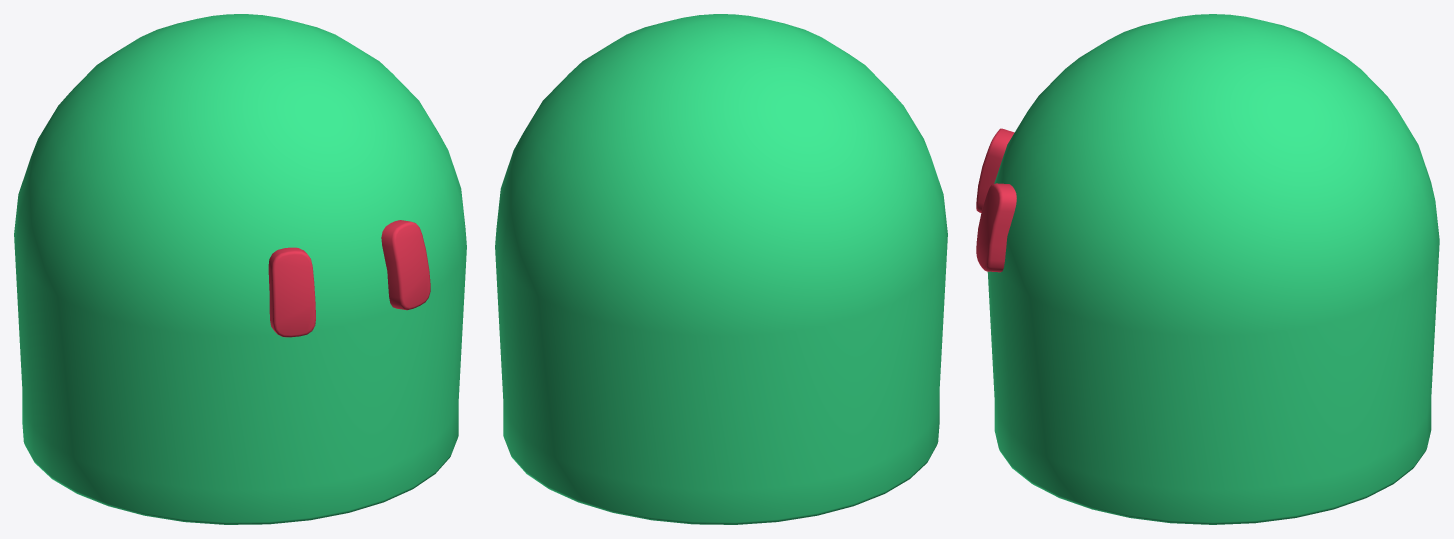
The model's file is BB_Boy.FBX.
3 renders of one model, left to right at view 1: azimuth 30°, elevation 25°; view 2: azimuth 150°, elevation 25°; view 3: azimuth 270°, elevation 25°, orthographic.
Visible parts, largest first — view 1: Sphere001; view 2: Sphere001; view 3: Sphere001.
Boxes of the visible parts, left/top/right/bottom form: Sphere001: left=14, top=14, right=466, bottom=524; Sphere001: left=495, top=14, right=947, bottom=524; Sphere001: left=976, top=14, right=1439, bottom=524.
Size of the model in its own units: 40.89 by 39.69 by 41.78.
